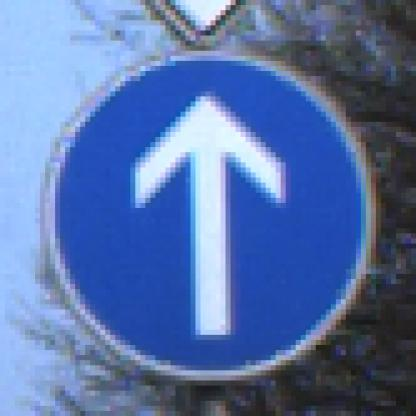AheadOnly: (41, 42, 382, 382)
